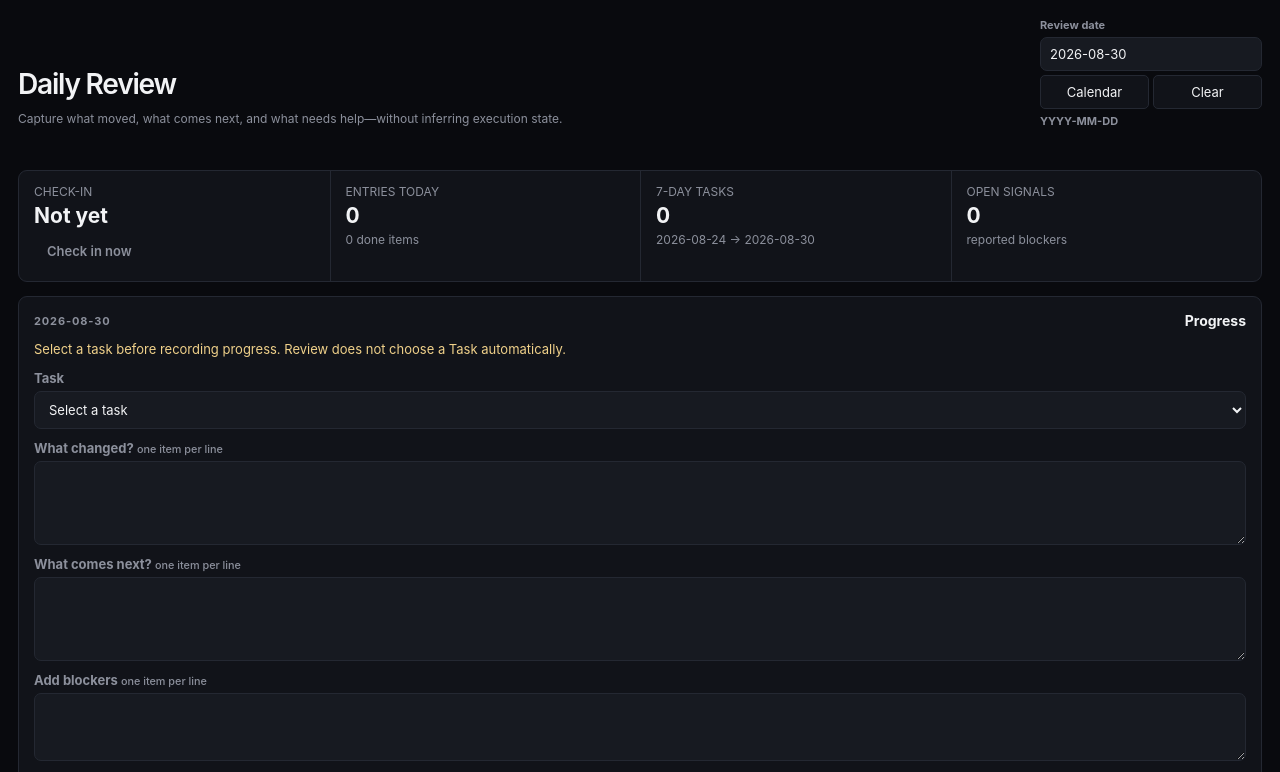
Test case: review calendar changes the selected date query and rejects impossible or future drafts
This screenshot has width=1280, height=772.
Check: the text "Not yet" is shown, box [34, 203, 108, 228]
Step 1. Click the button with aria-label "Choose date" → (1094, 92), box [1040, 75, 1149, 109]
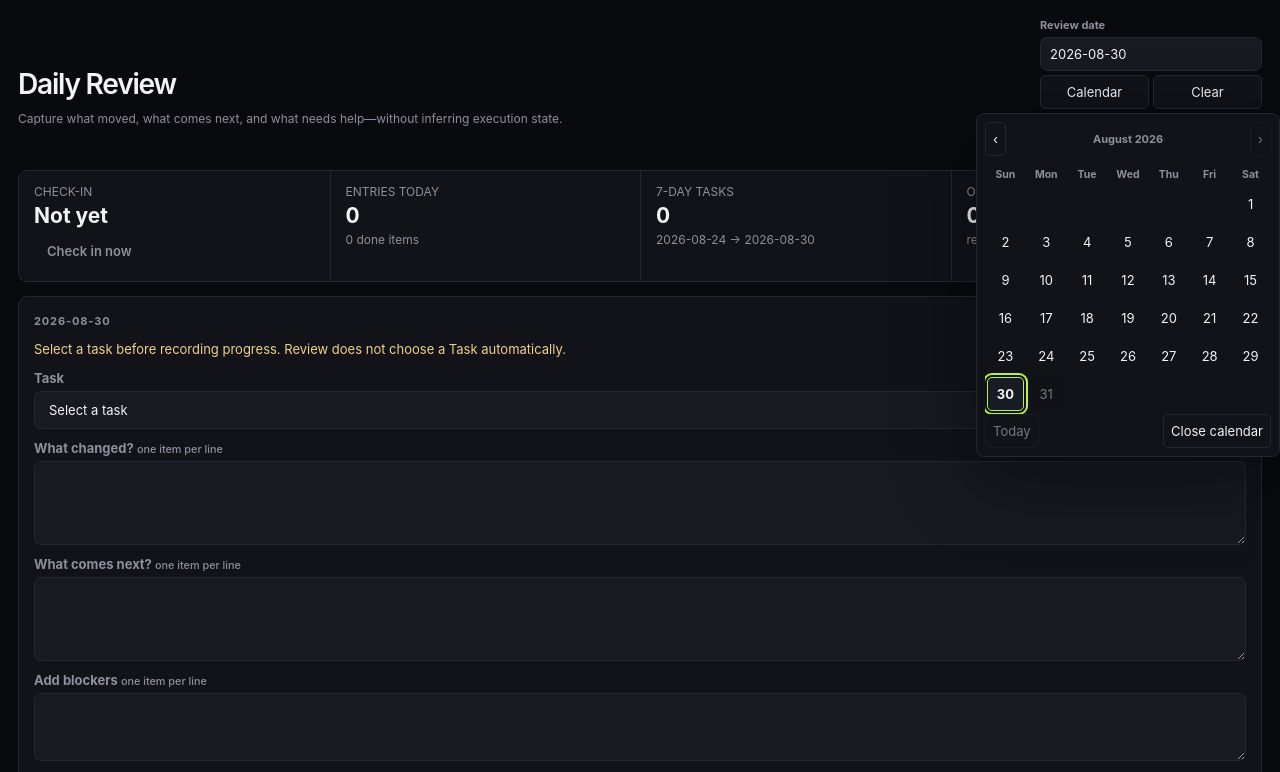
Check: the button named "August 31, 2026" is disabled, box [1028, 377, 1065, 411]
Step 2. Click the button named "August 29, 2026" → (1251, 356), box [1232, 339, 1269, 373]
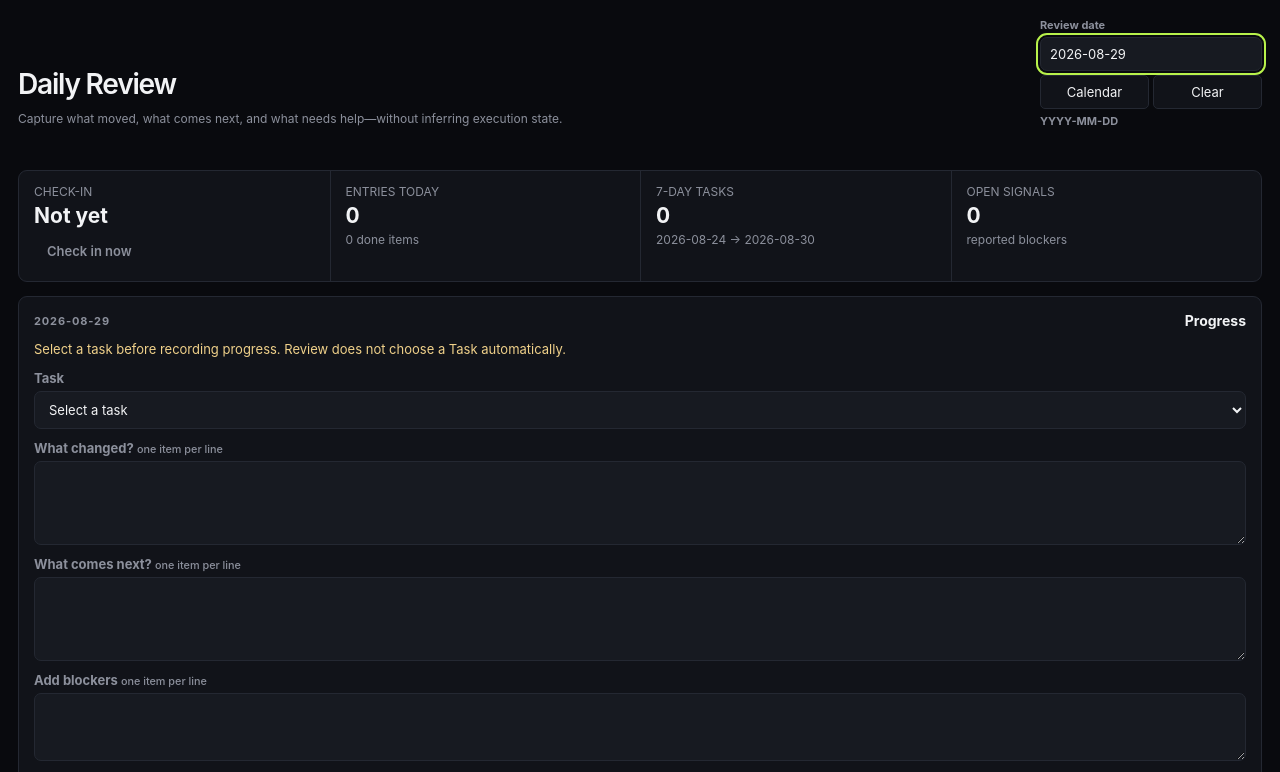
Step 3. Replace the text in the field labelled "Review date" with "2026-02-30" → (1151, 54), box [1040, 37, 1262, 71]
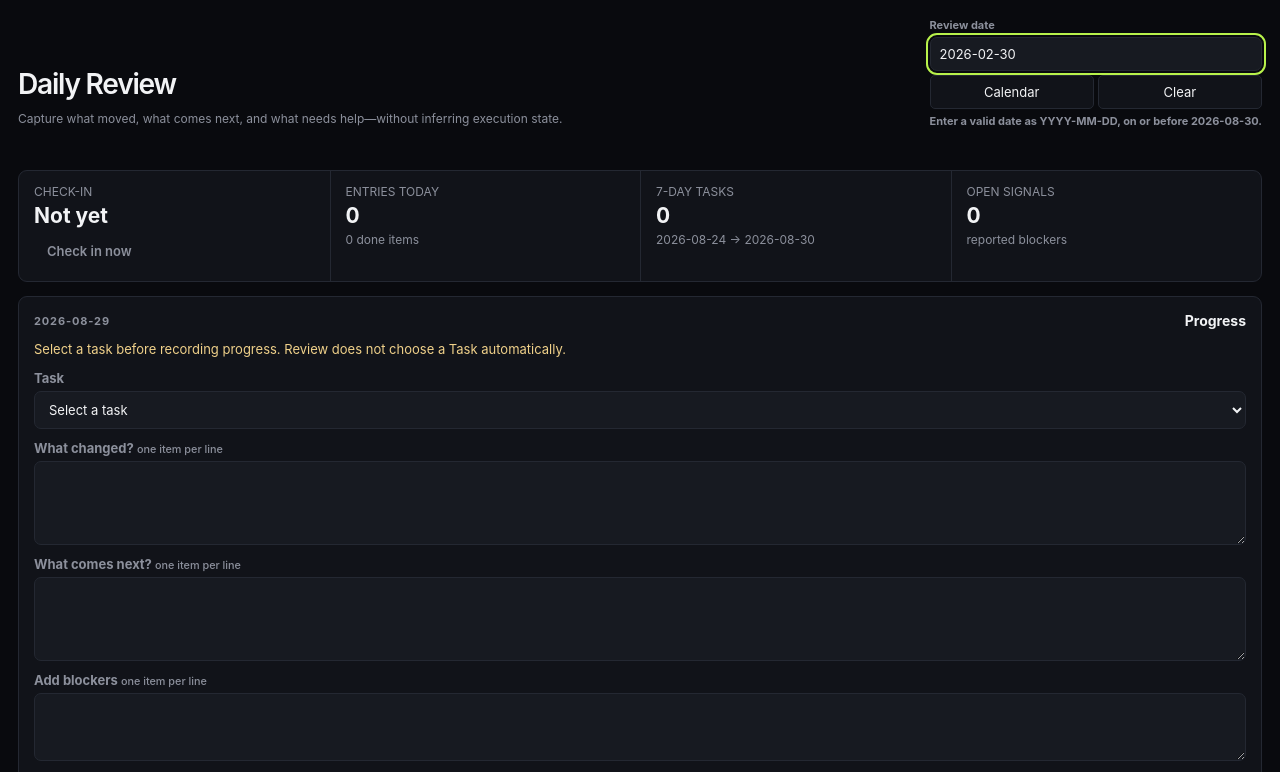
Step 4. Replace the text in the field labelled "Review date" with "2026-09-01" → (1096, 54), box [930, 37, 1262, 71]
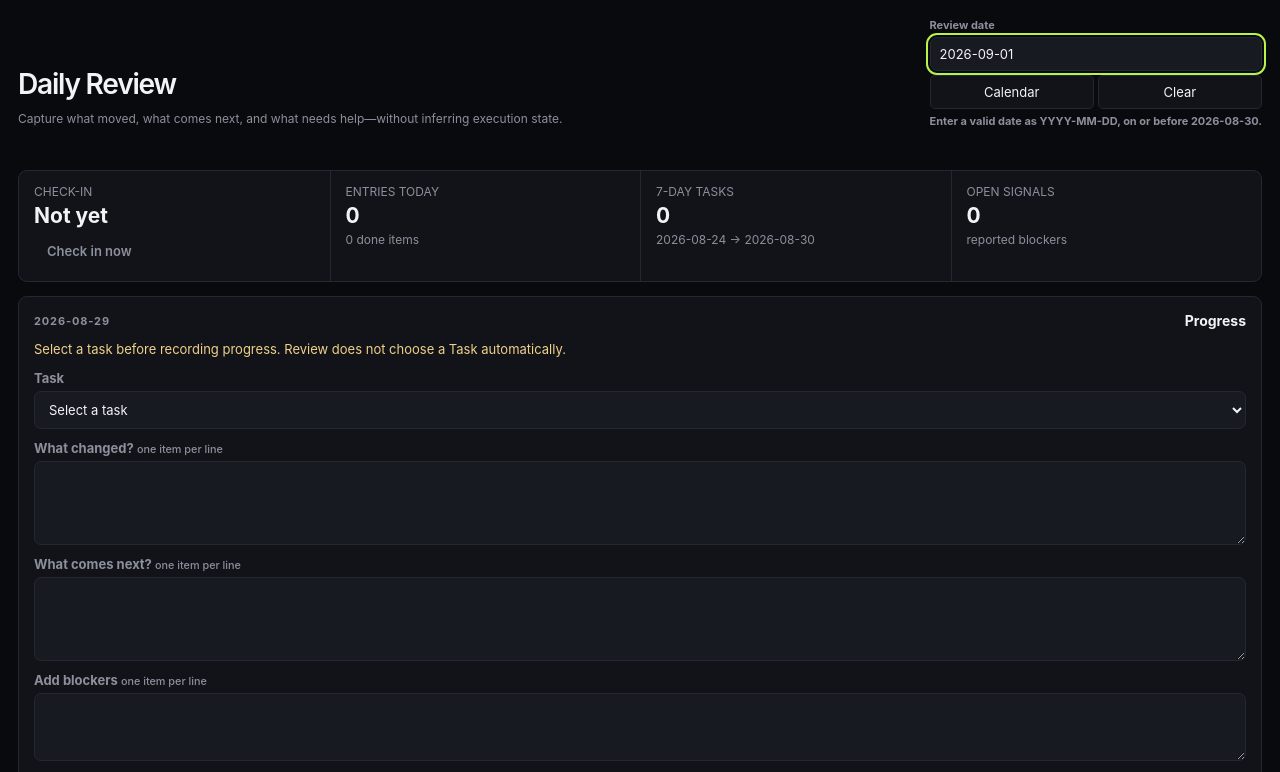
Check: the field labelled "Review date" is marked as invalid, box [930, 37, 1262, 71]
Step 5. Click the button with aria-label "Clear date" → (1180, 92), box [1098, 75, 1262, 109]
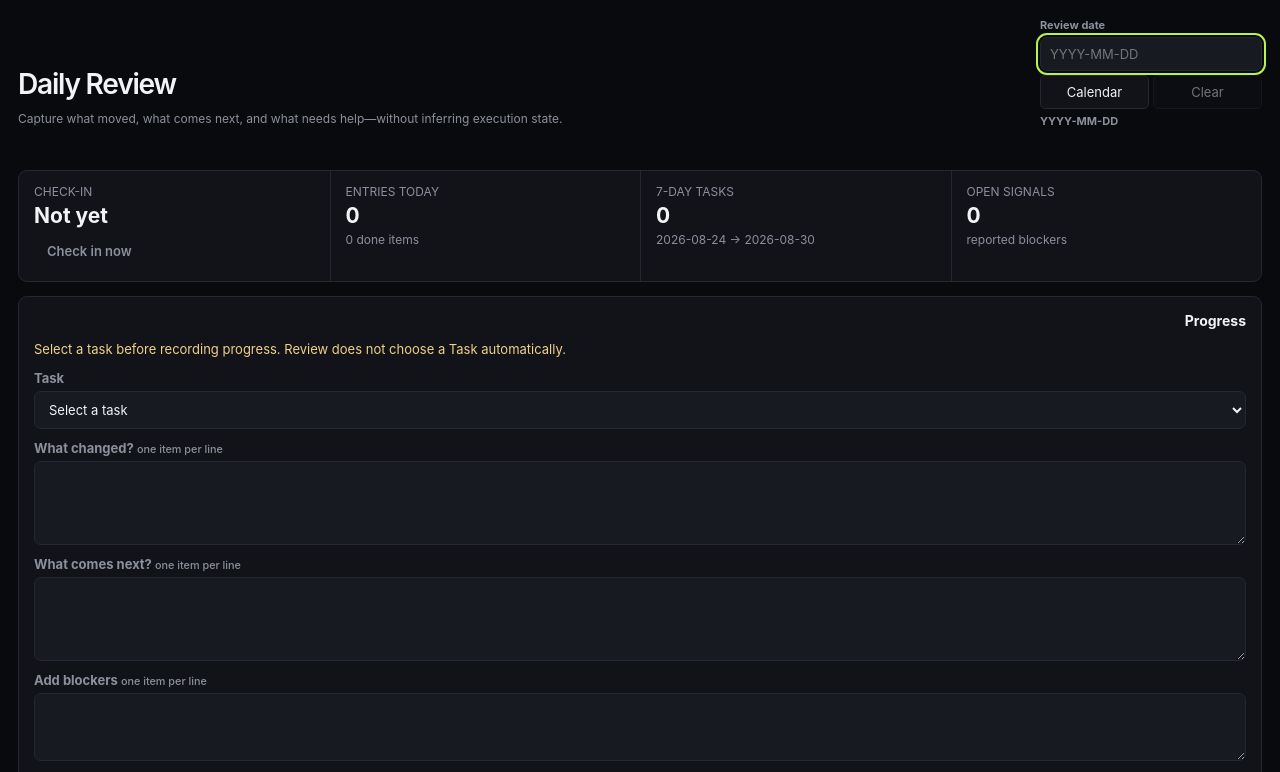
Check: the field labelled "Review date" is empty, box [1040, 37, 1262, 71]
